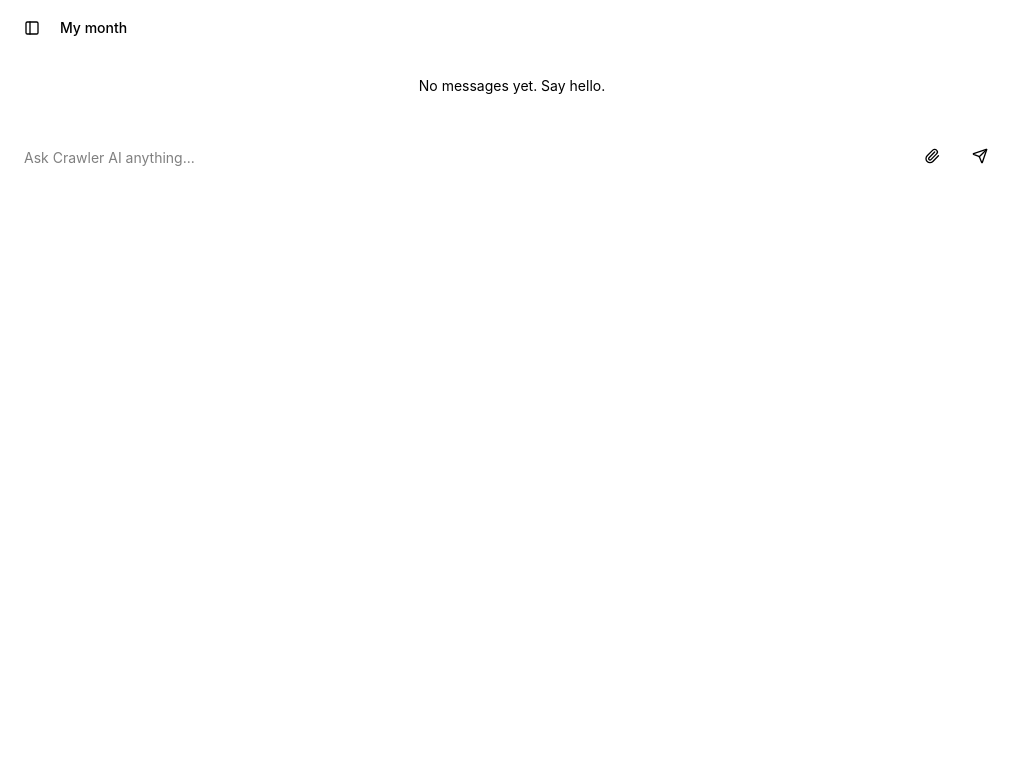
Test: Chat's weekly button on an approval card › offers a streamed card's app for a week and, pressed, allows it and removes the card
In the text box named "Message": coordinates (464, 158) x1=24 y1=140 x2=904 y2=176, type "What am I doing on the 15th?"
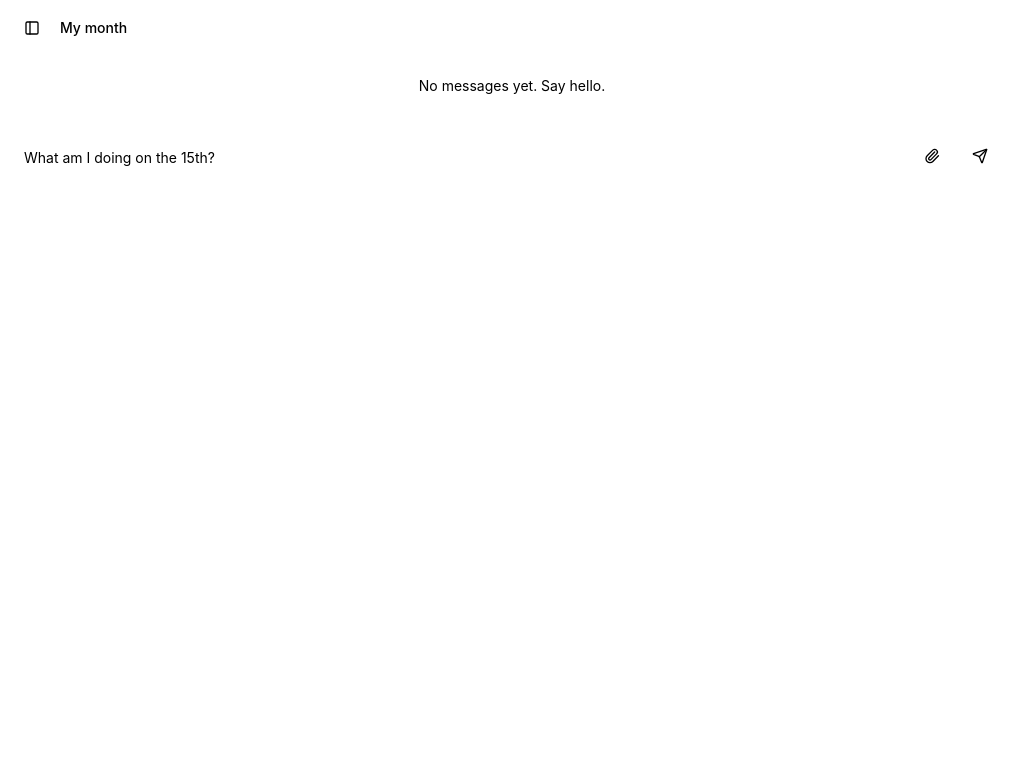
Press Enter in the text box named "Message", box x1=24 y1=140 x2=904 y2=176
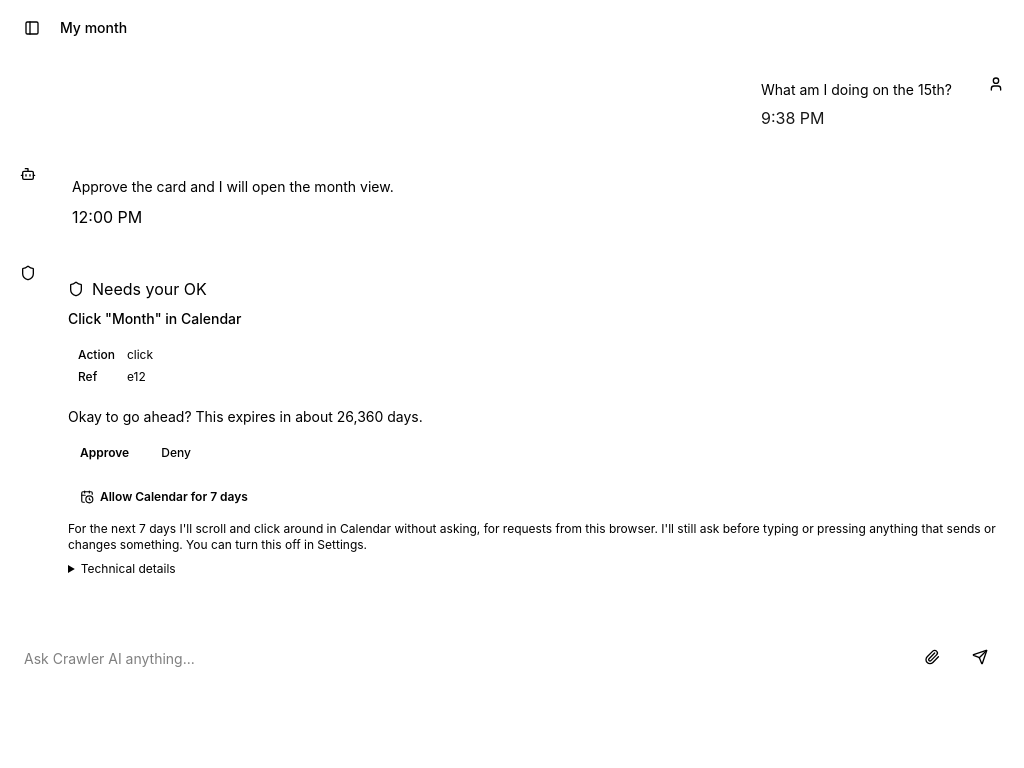
Expected: the text "For the next 7 days I'll scroll and click around in Calendar without asking, for requests from this browser. I'll still " is shown, x1=68 y1=521 x2=1000 y2=553
Expected: the button "Approve" is shown, x1=68 y1=435 x2=141 y2=471
Expected: the button "Deny" is shown, x1=149 y1=435 x2=203 y2=471
Click the button "Allow Calendar for 7 days": coordinates (164, 497) x1=68 y1=479 x2=260 y2=515
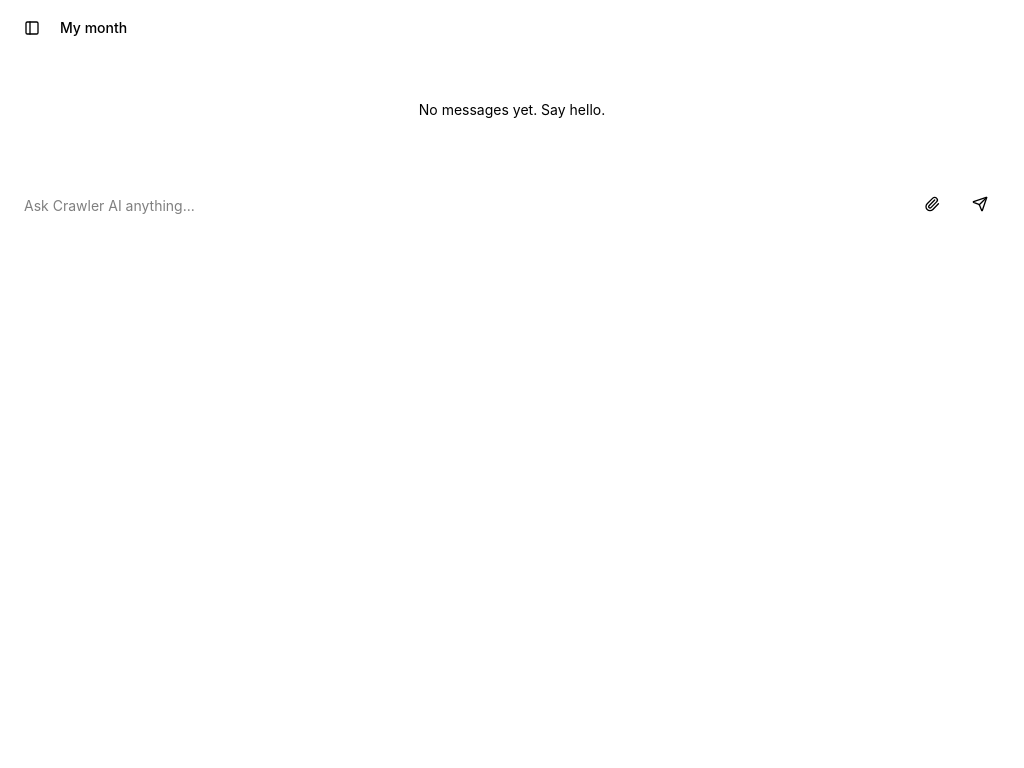
Expected: the button "Allow Calendar for 7 days" is gone
Expected: the text "Approve" is gone
